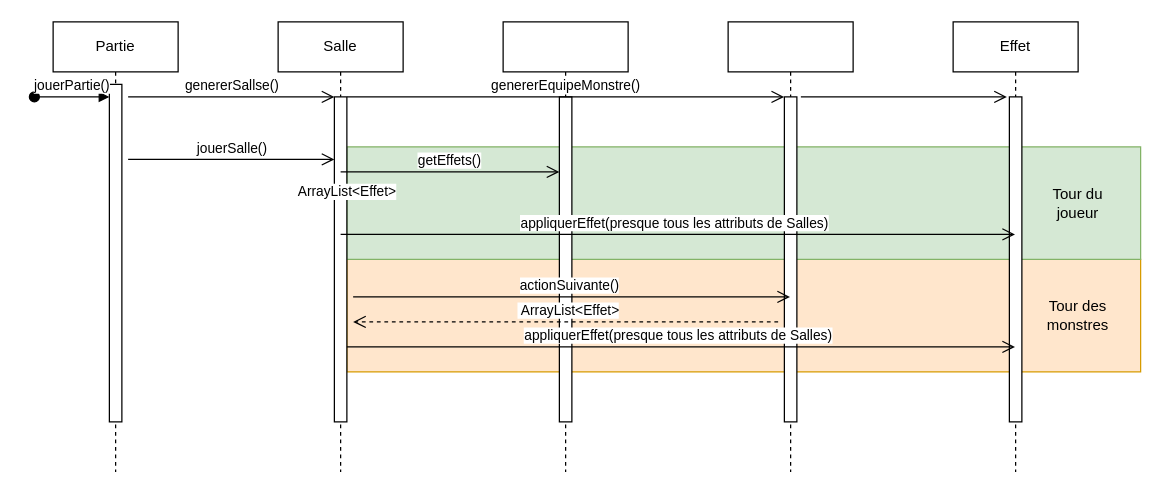
The diagram is 1163 pixels wide and 494 high, and some of its shapes have lost their labels. Here are the shapes that lost their labels. From the top down, the box of each, then its label:
(502, 21, 628, 472): Carte
(727, 21, 853, 472): Monstre
